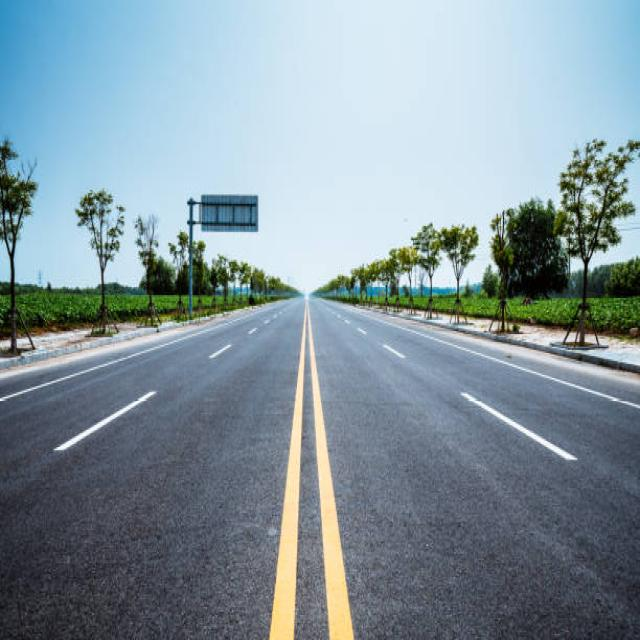Billboard_LHS: (200, 166, 264, 246)
Roadcorner: (3, 307, 239, 406), (445, 321, 639, 429)
Roadlane: (30, 315, 279, 485), (363, 328, 603, 495)
